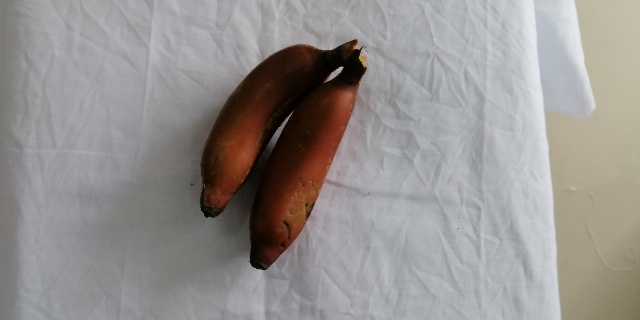banana_red: (198, 46, 357, 215), (248, 49, 362, 281)
